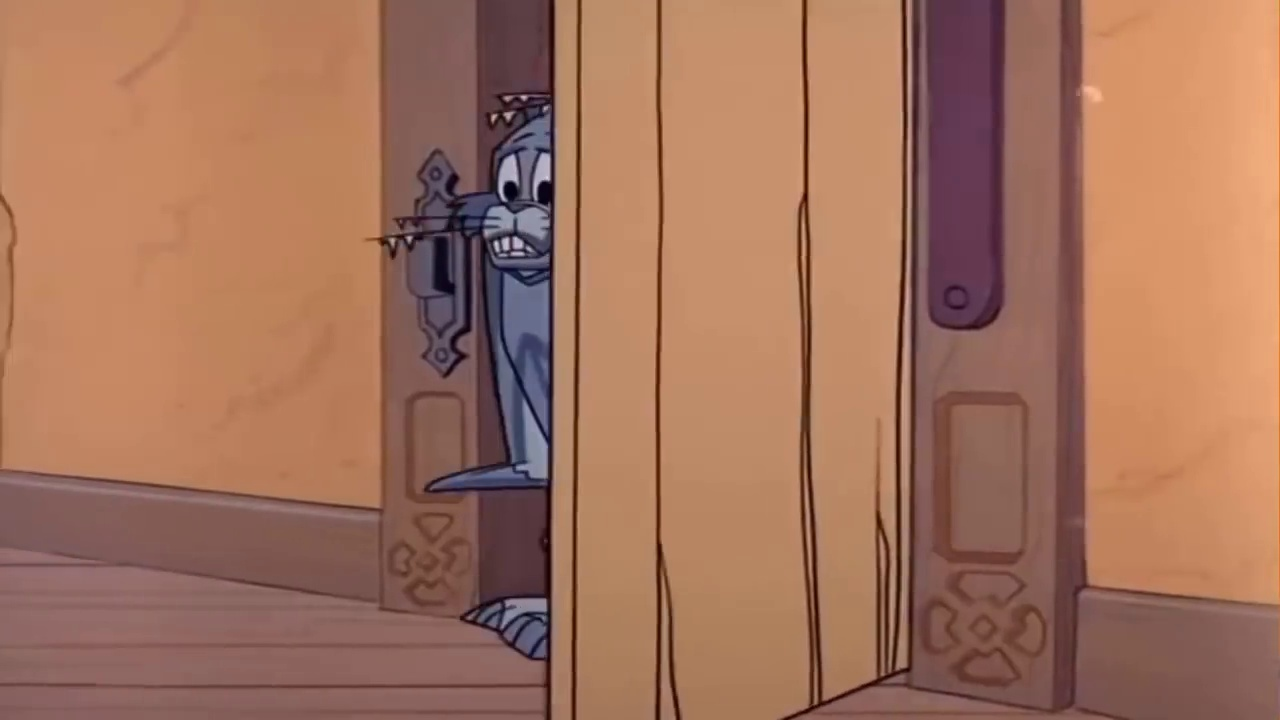face: (481, 121, 558, 278)
